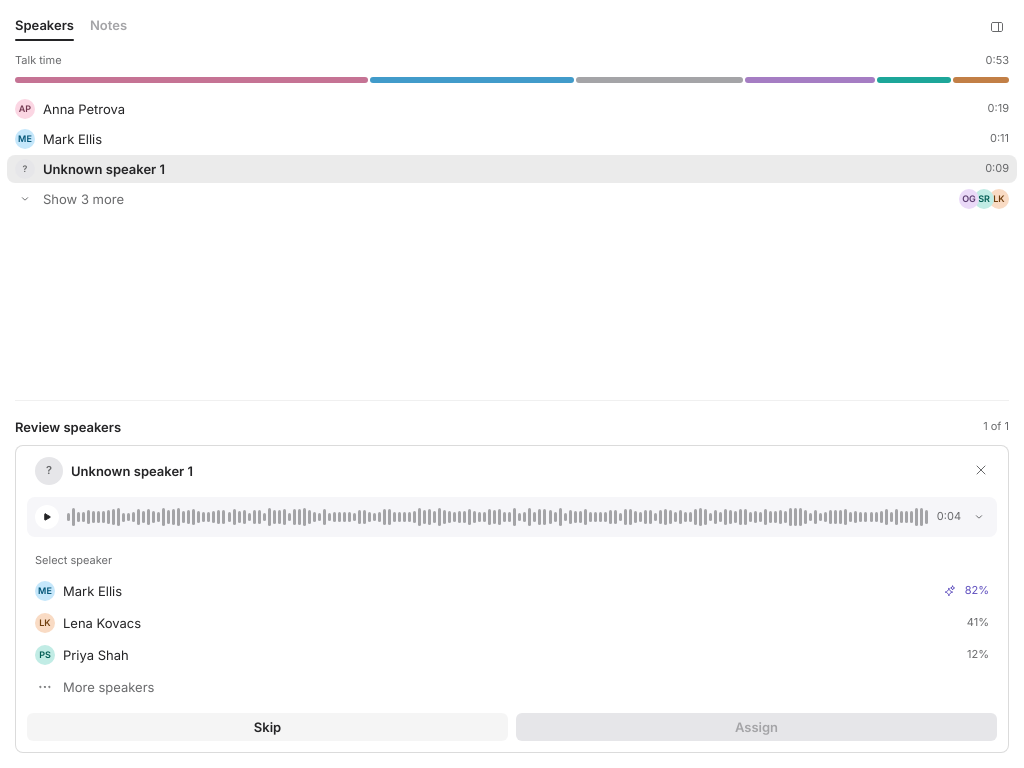
Scenario: speakers › as many rows as fit, the last place for Show N more, then all and Show less
Expected: the text "Sofia Ramos" is not shown
Click the button "Show 3 more OG SR LK" at (84, 199), box [7,185,1017,213]
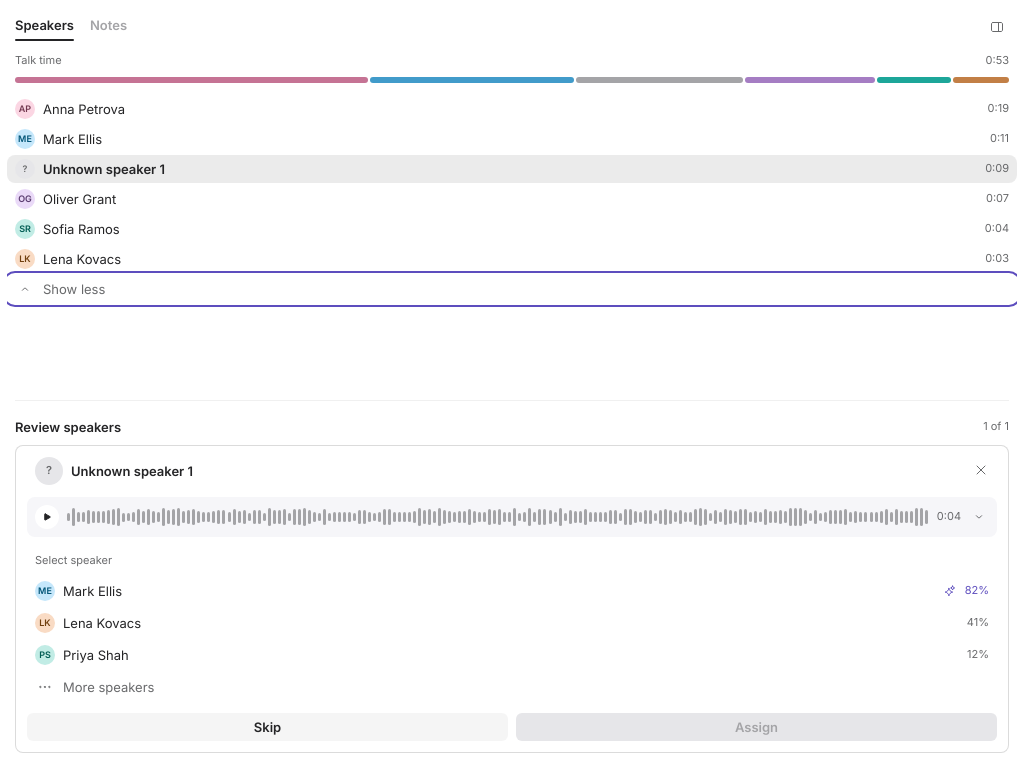
Expected: the button "Show less" is shown, [7,275,1017,303]
Expected: the text "Sofia Ramos" is shown, [43,221,120,237]
